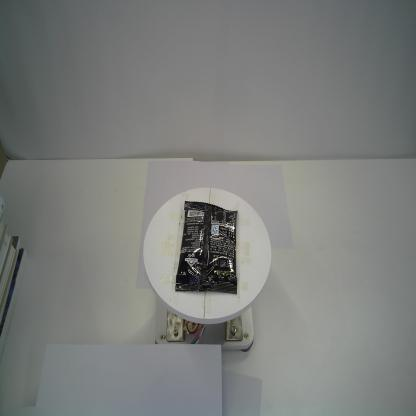Instant Drink: (176, 200, 238, 295)
